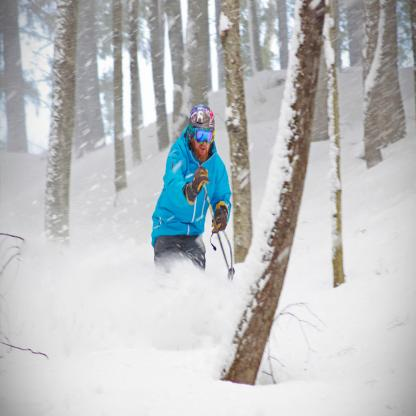Helmet: (184, 107, 217, 158)
